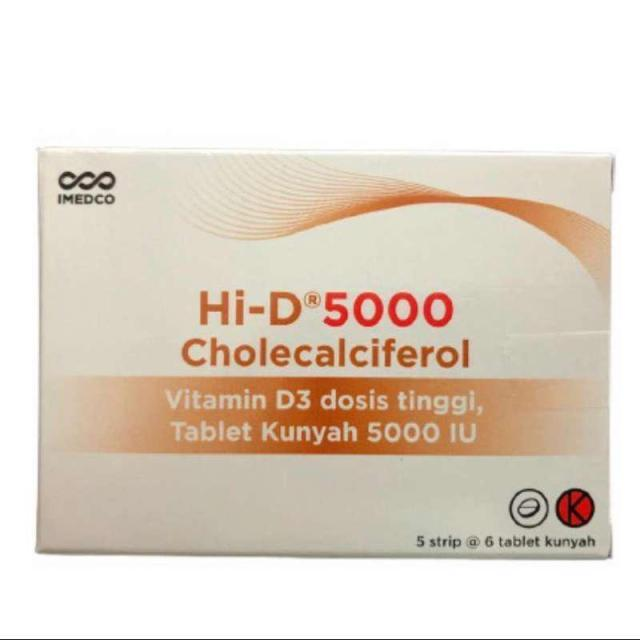drug-name: (188, 276, 460, 331)
